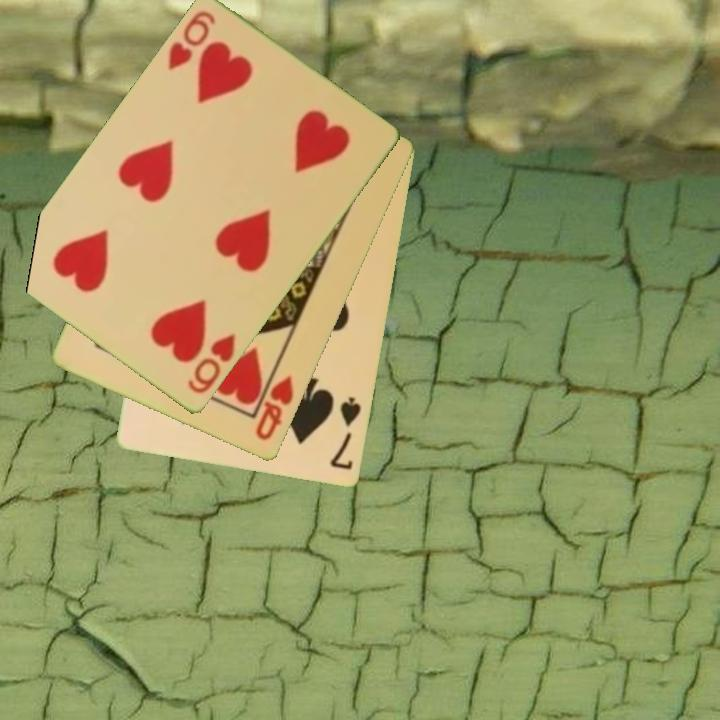6h: (183, 330, 239, 397), (164, 7, 219, 74)
7s: (327, 394, 365, 473)
Qh: (251, 363, 297, 444)
